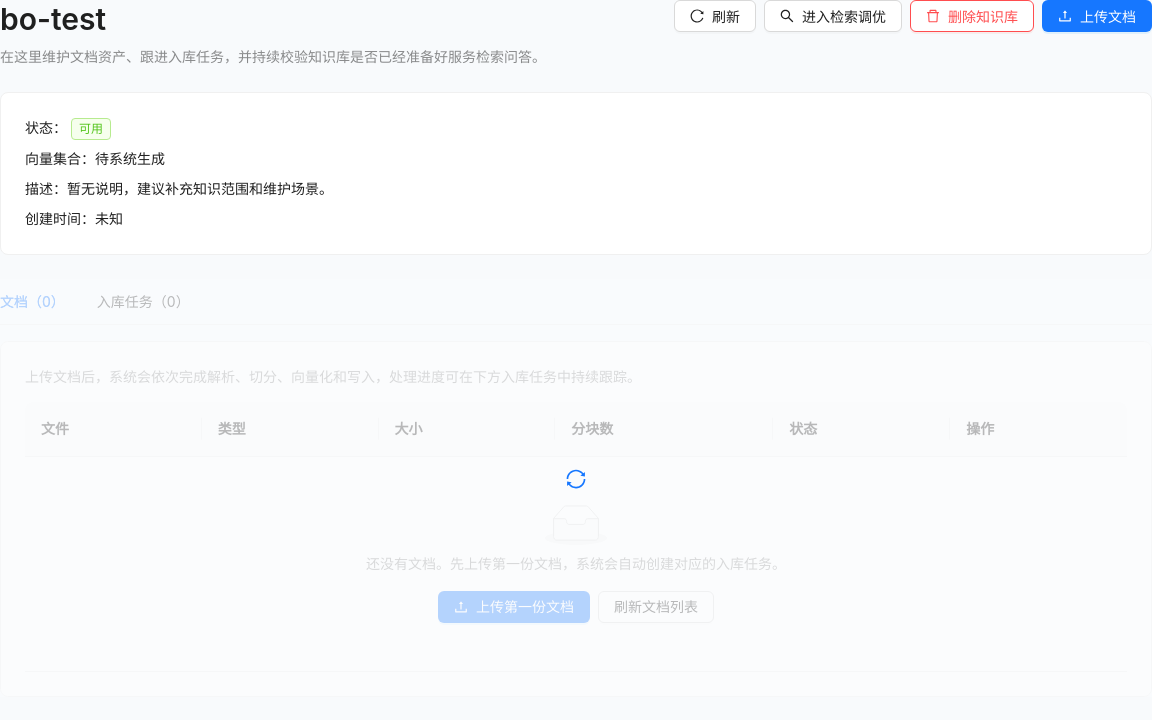
Test: KnowledgeBaseDetailPage › shows every file type accepted by the backend upload endpoint
Click the button "上传文档" at (1097, 16), box [1042,0,1151,32]
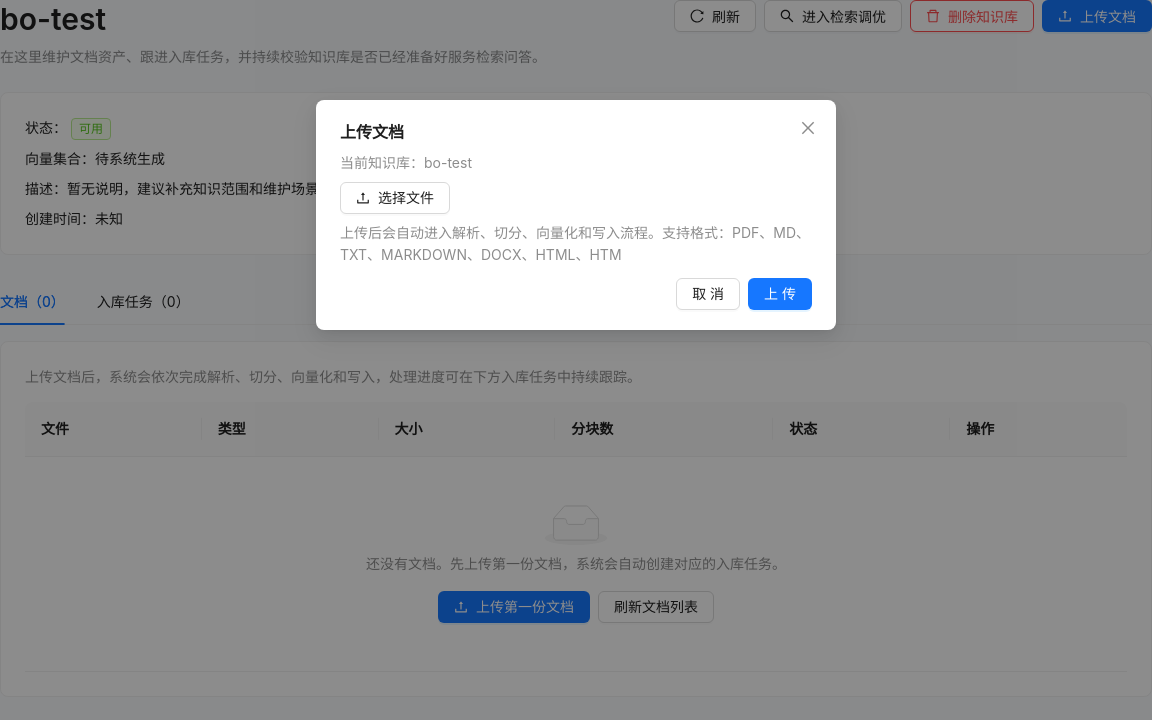
Check: the text "上传后会自动进入解析、切分、向量化和写入流程。支持格式：PDF、MD、TXT、MARKDOWN、DOCX、HTML、HTM" is shown, box [340,224,810,263]
